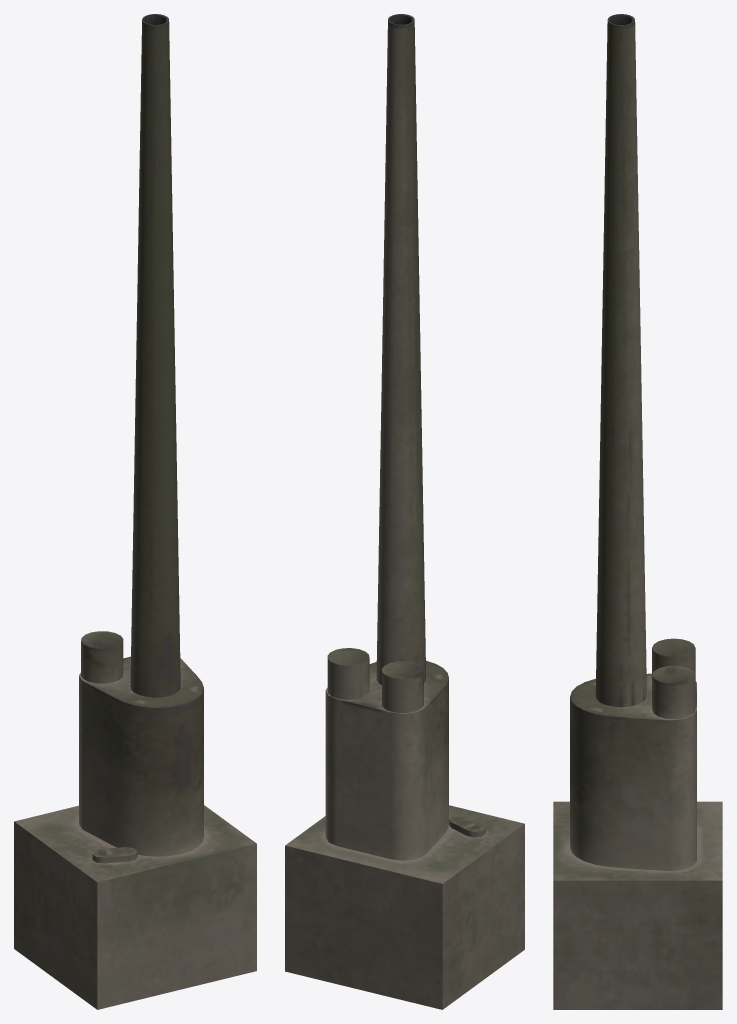
File: Gun_05.glb
The picture shows the model from 3 angles, left to right: view 1: azimuth 30°, elevation 25°; view 2: azimuth 150°, elevation 25°; view 3: azimuth 270°, elevation 25°; orthographic projection. The views are drawn at different scales.
Visible parts, largest first — view 1: set_0_group_0; view 2: set_0_group_0; view 3: set_0_group_0.
Boxes of the visible parts, left/top/right/bottom form: set_0_group_0: left=14, top=14, right=256, bottom=1009; set_0_group_0: left=285, top=14, right=524, bottom=1009; set_0_group_0: left=553, top=14, right=722, bottom=1009.
Size of the model in its own units: 0.4624 by 2.62 by 0.4188.
Materials: 1 (1 with a texture image).
